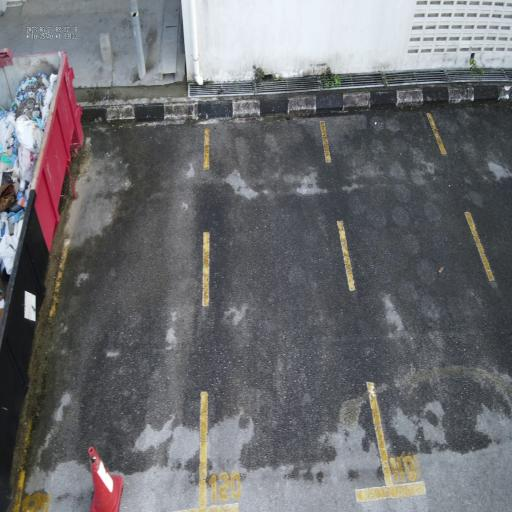Empty: (5, 111, 214, 512), (196, 105, 398, 512)
